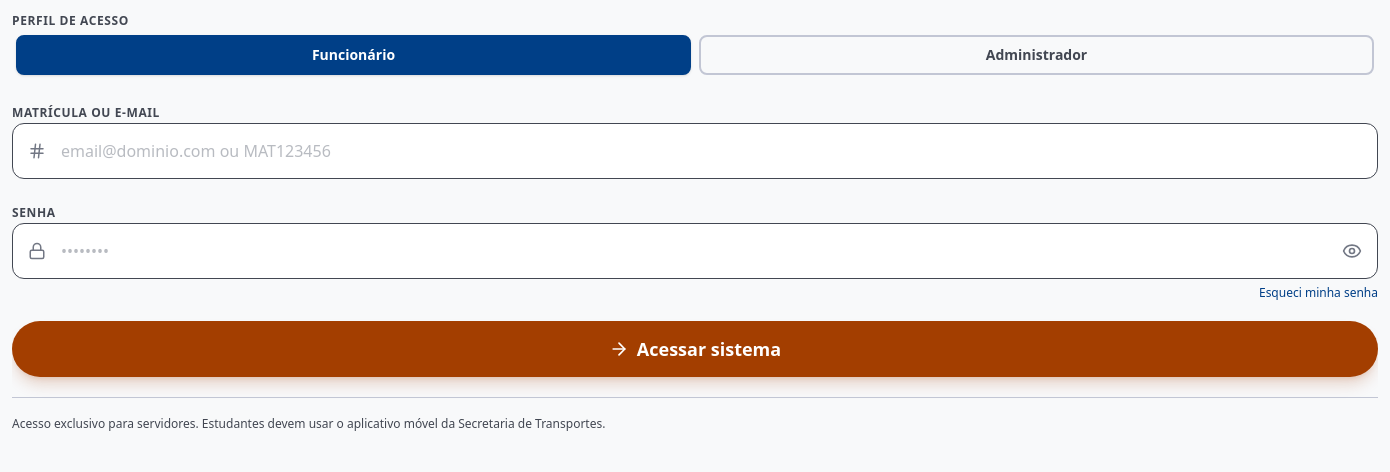
Test: EmployeeAdminLoginForm › deve validar senha curta e mostrar erro por campo
The image size is (1390, 472).
Type "MAT123456" into the field with placeholder "email@dominio.com ou MAT123456". click: (695, 151)
box: [12, 123, 1378, 179]
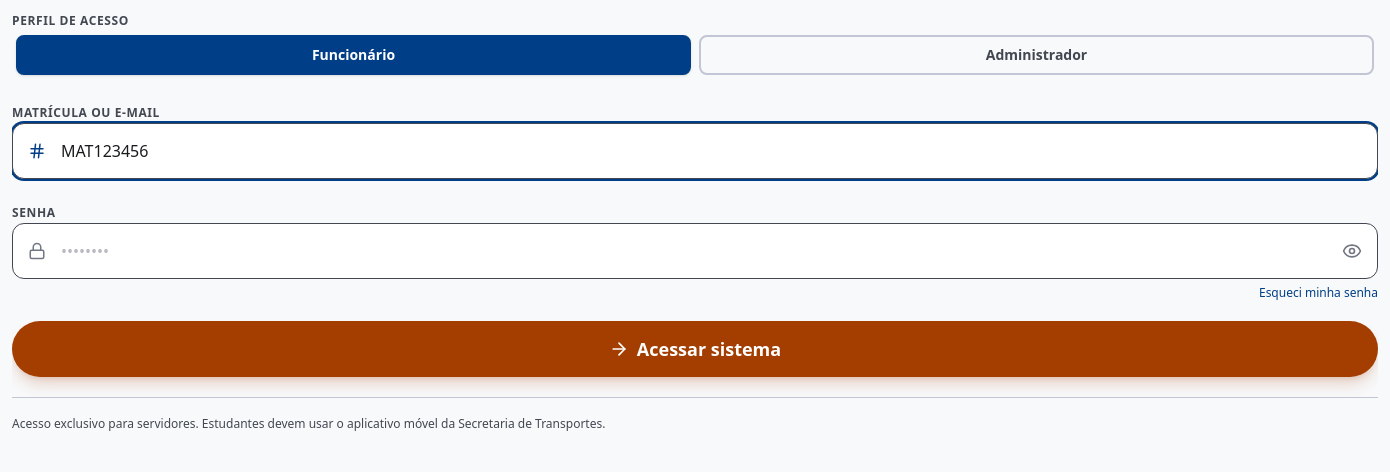
Type "123" into the password field with placeholder "••••••••". click: (695, 251)
box: [12, 223, 1378, 279]
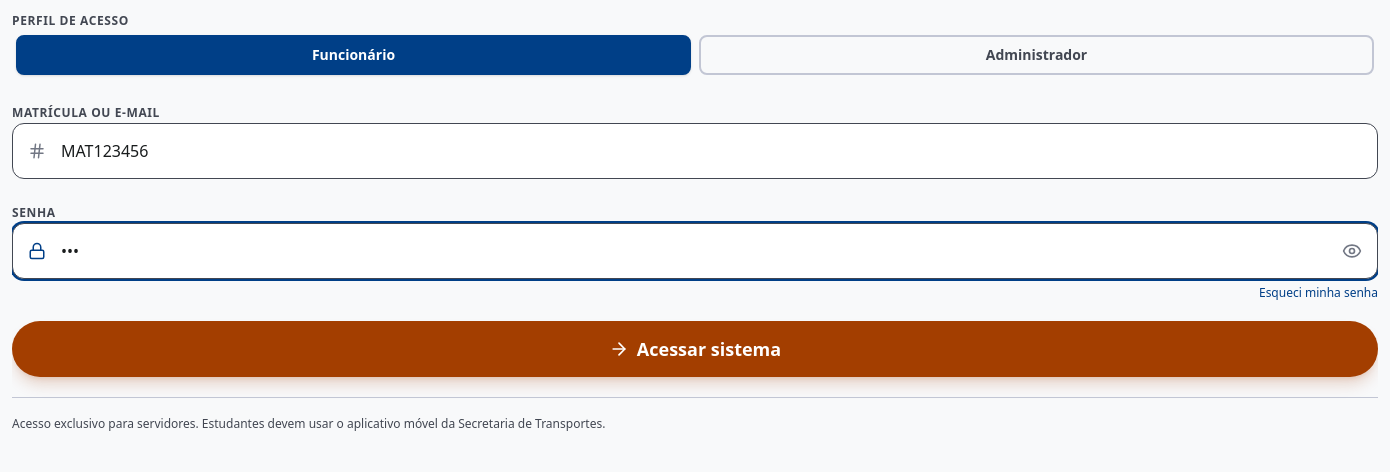
Click the button "Acessar sistema". click: (695, 349)
box: [12, 321, 1378, 377]
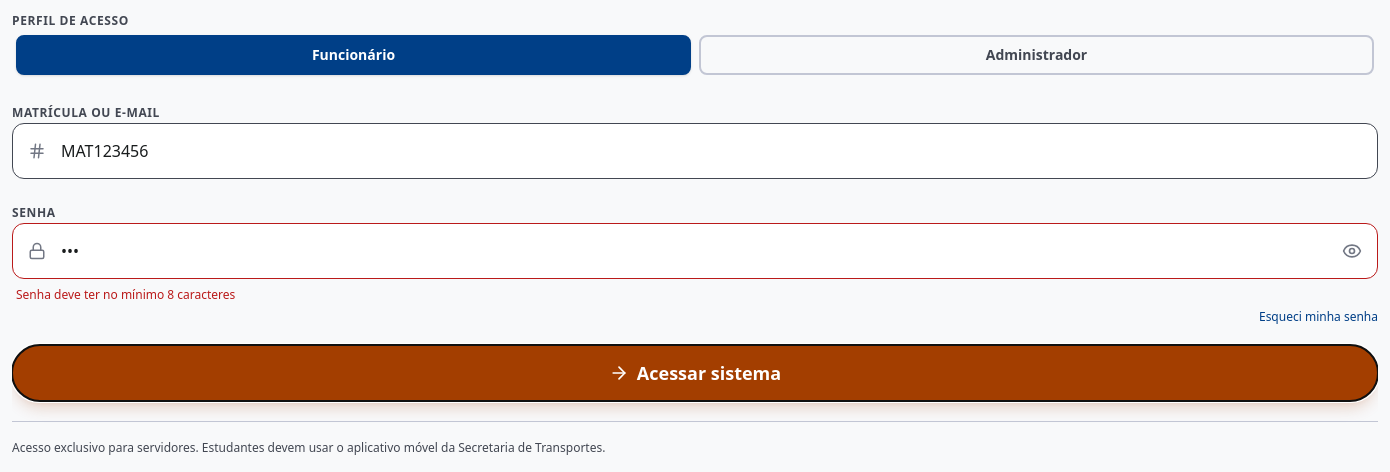
Result: the text "Senha deve ter no mínimo 8 caracteres" is shown at [16, 286, 235, 303]
